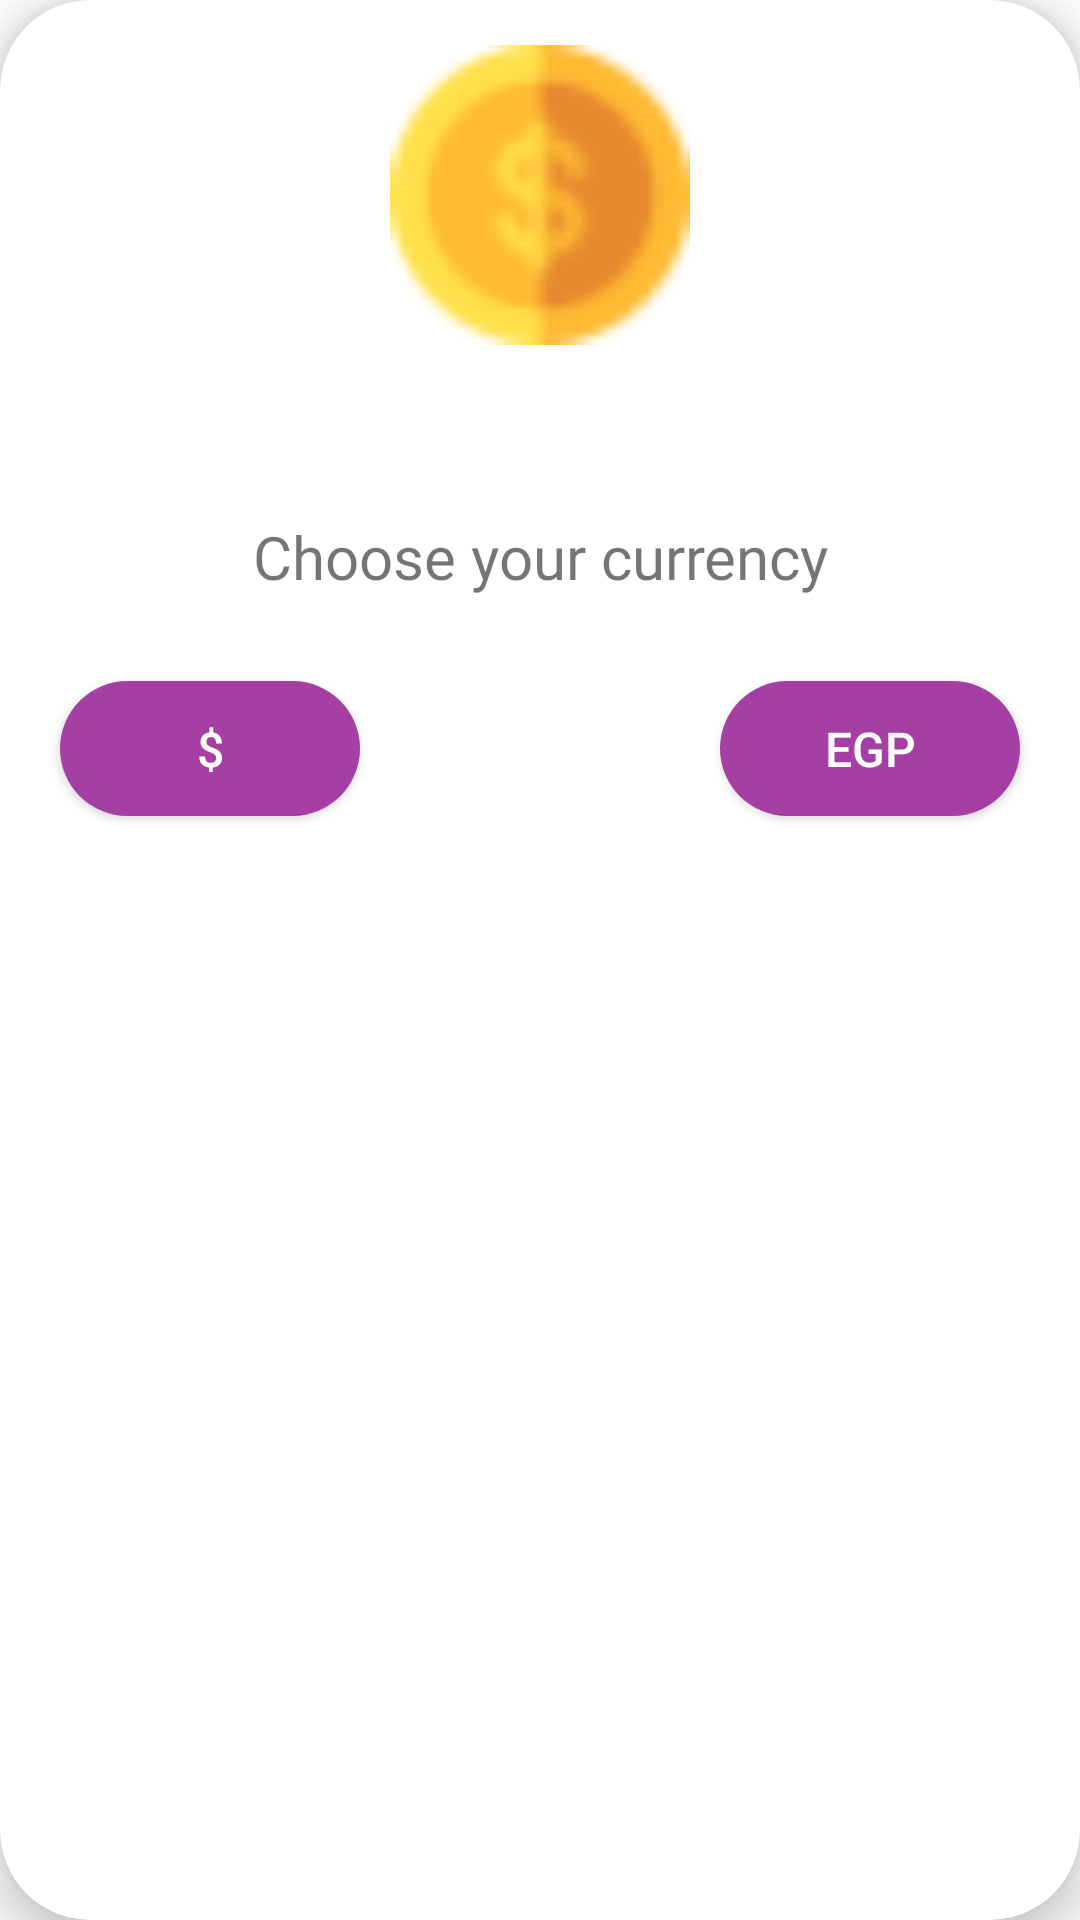

Icon bounding boxes for this 1080x1920 phone screenshot, format BBox(x1, y1, x2, y2):
currency: BBox(390, 45, 690, 345)
